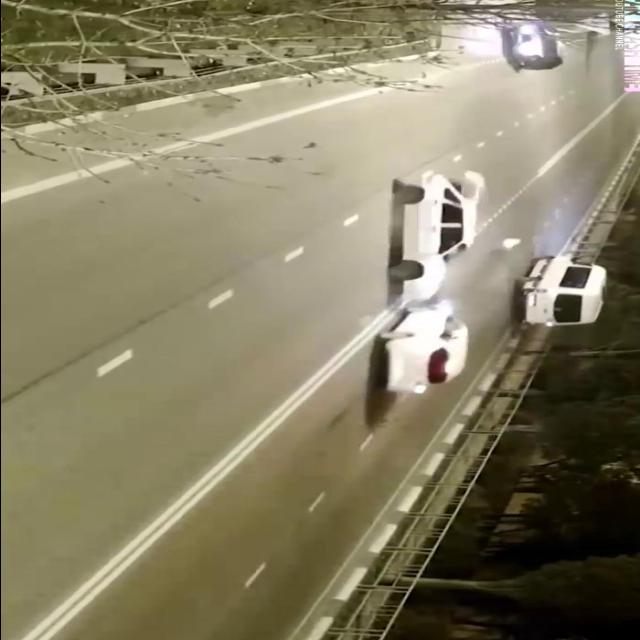accident: (354, 156, 501, 401)
